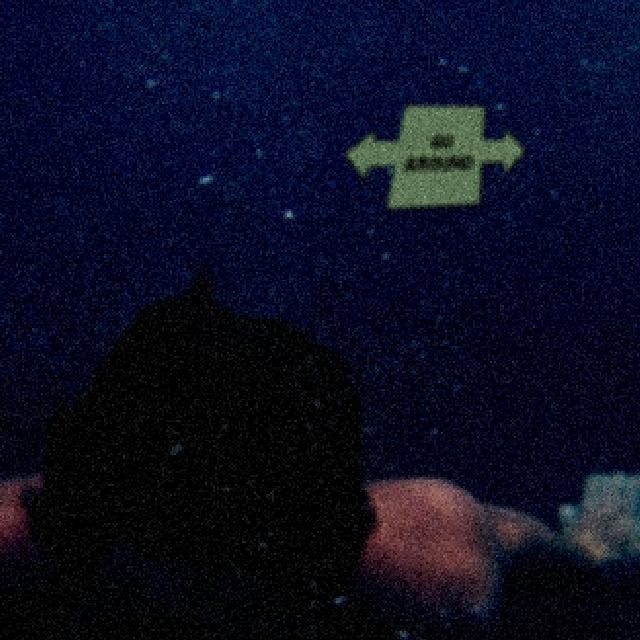GO_AROUND: (342, 103, 525, 209)
